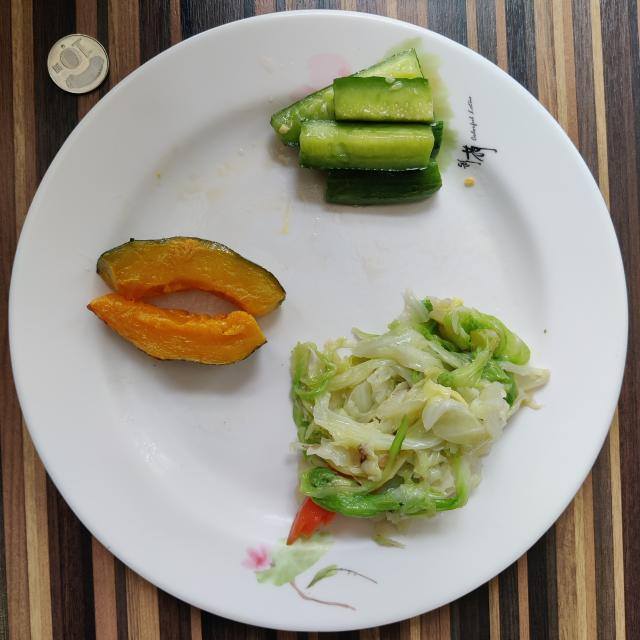cabbage: (288, 291, 550, 545)
coin: (48, 35, 109, 94)
cucumber: (271, 49, 442, 205)
pumpkin: (96, 236, 285, 315), (88, 294, 266, 365)
